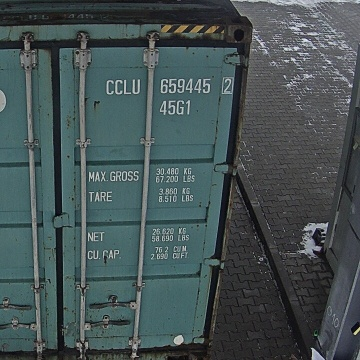serial_id: (105, 78, 231, 95)
